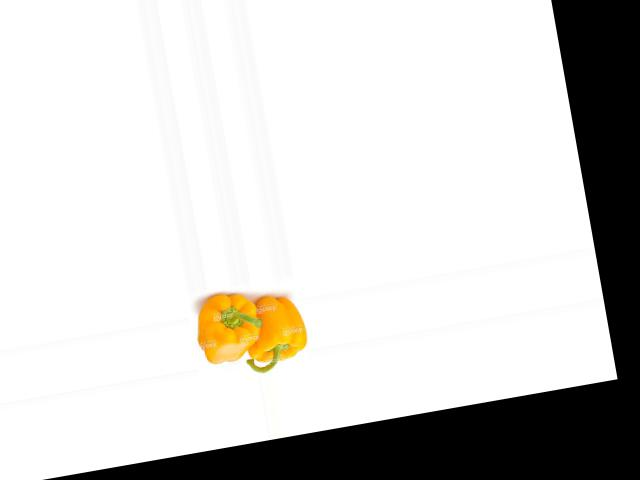bell_pepper: (233, 289, 312, 373)
